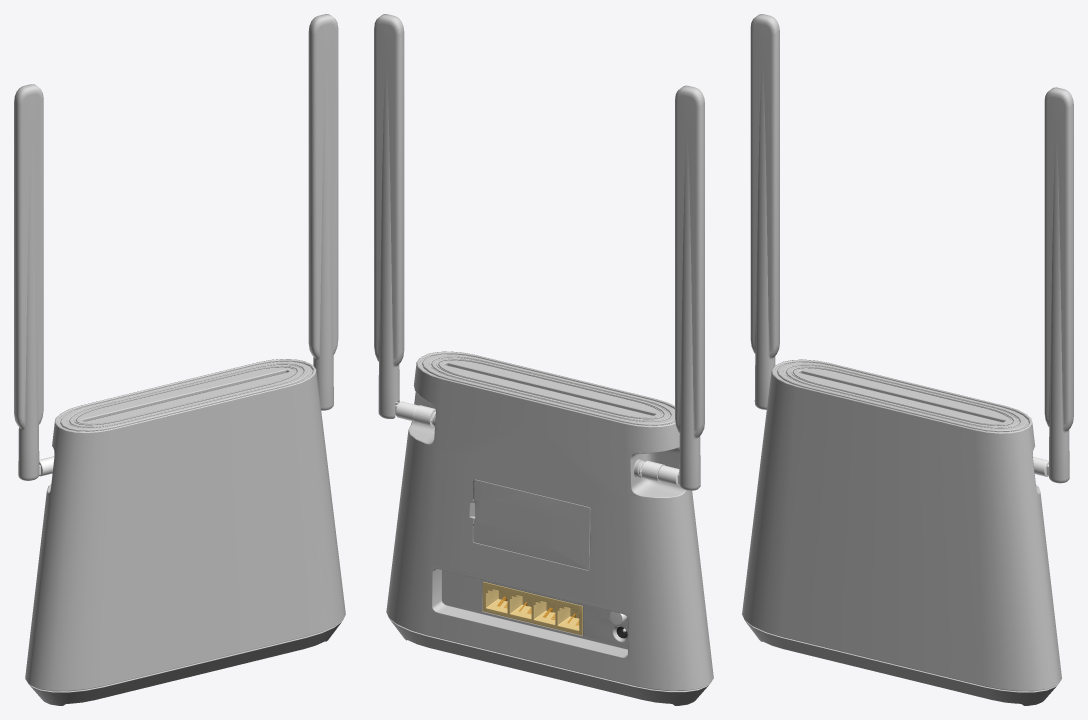
The picture shows the model from 3 angles, left to right: view 1: azimuth 30°, elevation 25°; view 2: azimuth 150°, elevation 25°; view 3: azimuth 330°, elevation 25°; orthographic projection. The views are drawn at different scales.
Visible parts, largest first — view 1: badan, anten, anten.001; view 2: badan, anten, anten.001, move this, lan portal; view 3: badan, anten, anten.001.
Part boxes in pixels (bbox=[...]): badan: bbox=[25, 359, 345, 705]; anten: bbox=[308, 14, 338, 410]; anten.001: bbox=[14, 84, 43, 480]; badan: bbox=[386, 351, 713, 705]; anten: bbox=[374, 14, 404, 418]; anten.001: bbox=[675, 85, 704, 490]; move this: bbox=[473, 479, 590, 570]; lan portal: bbox=[482, 581, 582, 635]; badan: bbox=[742, 359, 1061, 705]; anten: bbox=[1044, 87, 1073, 483]; anten.001: bbox=[750, 14, 779, 409].
Bounding box in the file's own units: 0.1925 × 0.3498 × 0.0416.
